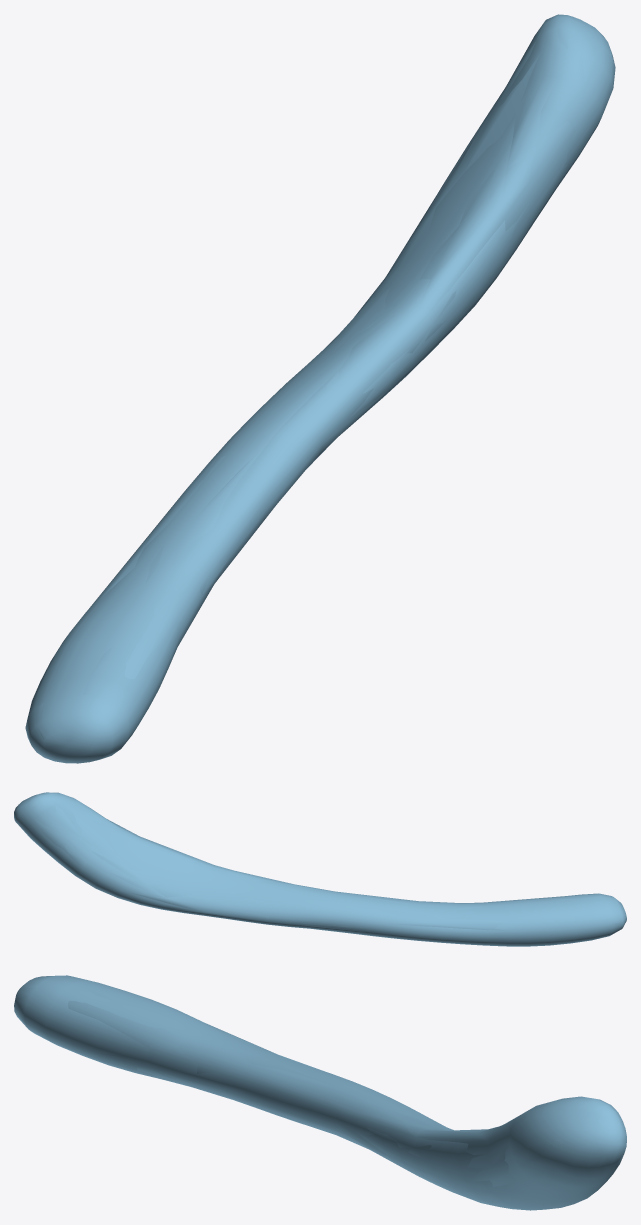
3 renders of one model, top to bottom at view 1: azimuth 30°, elevation 25°; view 2: azimuth 150°, elevation 25°; view 3: azimuth 270°, elevation 25°, orthographic. The views are drawn at different scales.
Visible parts, largest first — view 1: CC L7, CC L7 low; view 2: CC L7, CC L7 low; view 3: CC L7, CC L7 low.
Part boxes in pixels (x1=…): CC L7: x1=25, y1=14, x2=615, y2=763; CC L7 low: x1=25, y1=18, x2=613, y2=751; CC L7: x1=14, y1=792, x2=626, y2=946; CC L7 low: x1=16, y1=792, x2=626, y2=945; CC L7: x1=14, y1=975, x2=626, y2=1210; CC L7 low: x1=18, y1=977, x2=622, y2=1210.
Size of the model in its own units: 16.96 by 5.73 by 12.01.
